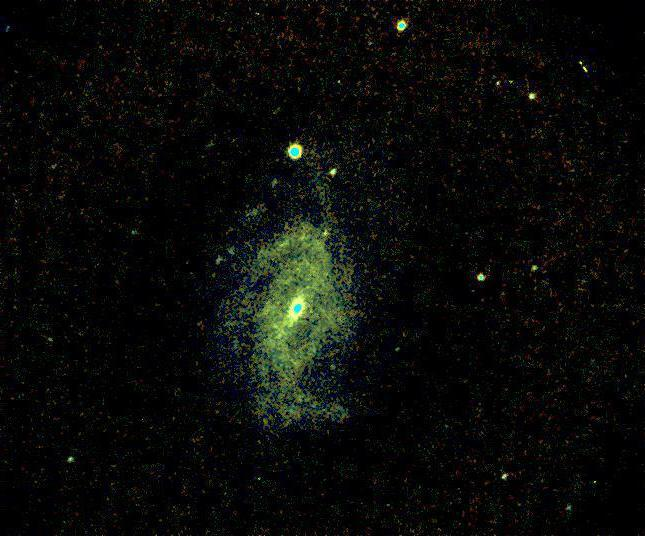star: (569, 46, 599, 76)
